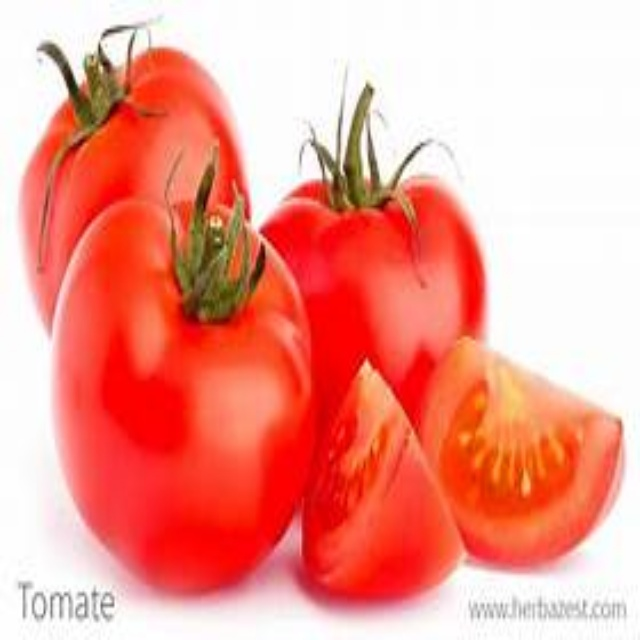tomato: (43, 215, 304, 585), (293, 342, 630, 602), (23, 36, 254, 319), (257, 157, 499, 400)
